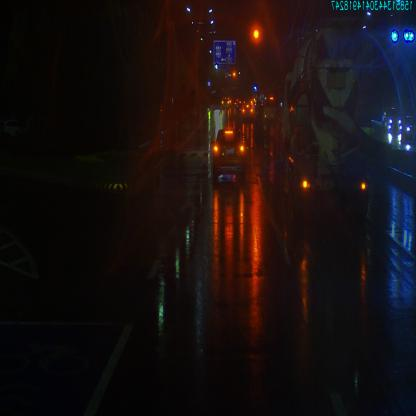traffic-light: (252, 26, 260, 42)
